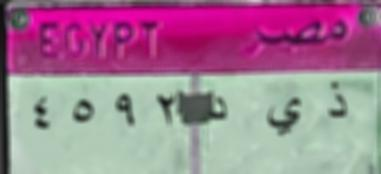2: (150, 91, 179, 130)
4: (26, 92, 58, 138)
5: (68, 94, 98, 135)
9: (111, 90, 144, 136)
daal: (208, 94, 233, 126)
yaa: (262, 92, 304, 139)
zaal: (318, 79, 354, 123)
